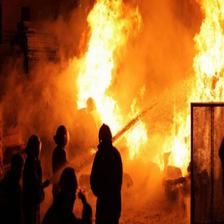fire: (58, 1, 153, 154), (169, 1, 222, 163)
